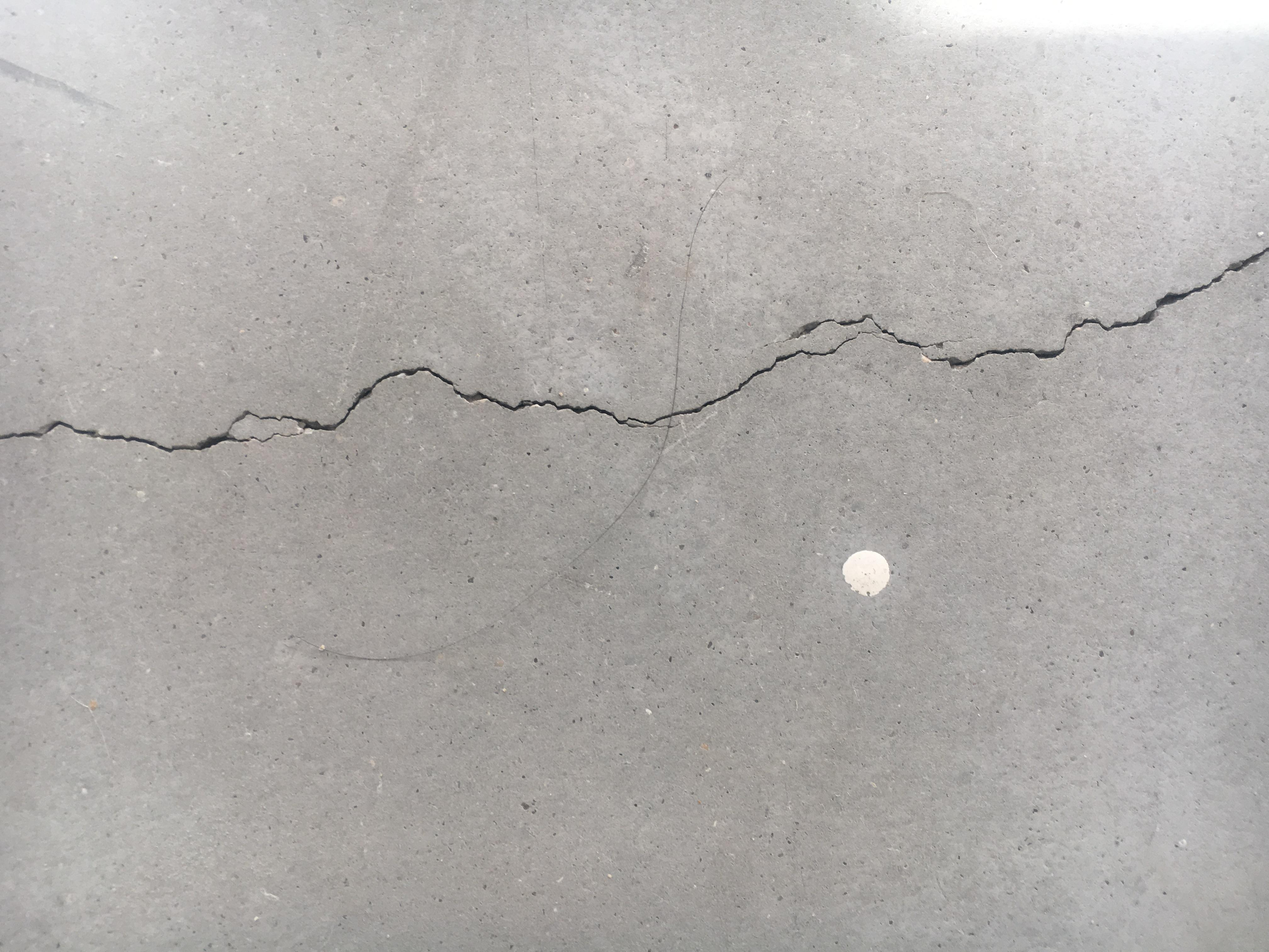Horizontal Settlement Crack: (3, 242, 1266, 458)
